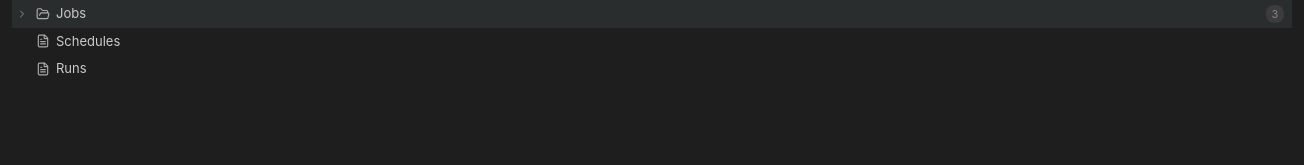
Test: AutomationSidebarSection › toggles jobs section closed when clicking main button
Click the button "Jobs 3". click: [71, 13]
box: [36,4,1284,24]
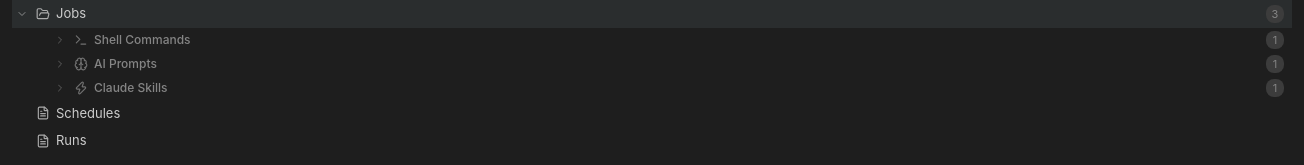
Expected: the text "Shell Commands" is shown, [94,32,190,46]
Click the button "Jobs 3". click: [71, 13]
box: [36,4,1284,24]
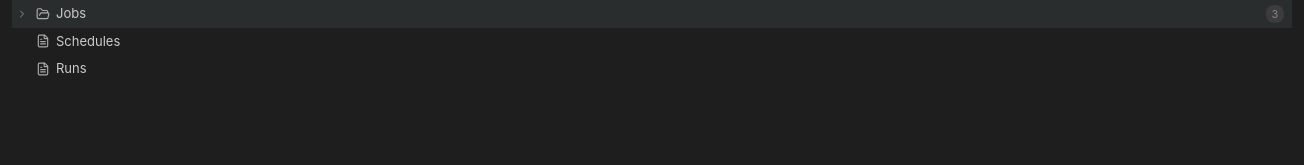
Expected: the button "Shell Commands" is gone
